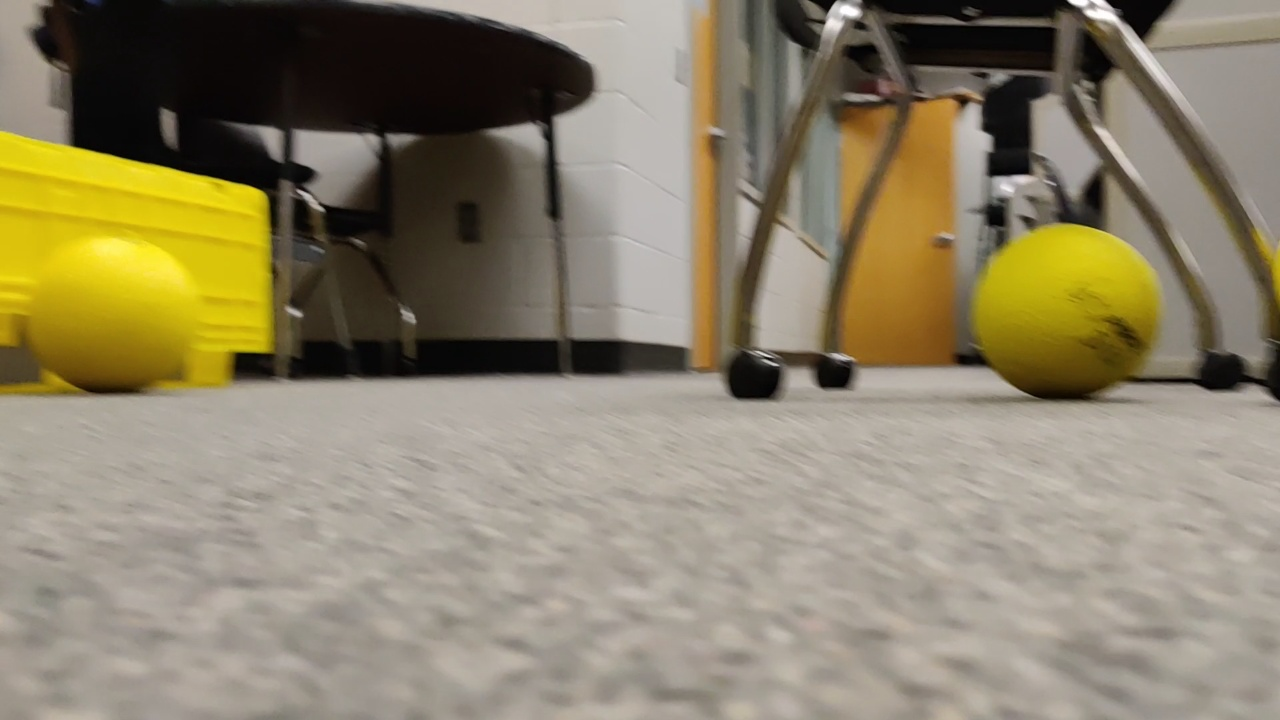Ball: (962, 219, 1165, 395), (27, 229, 187, 388)
